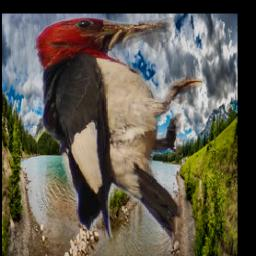Woodpecker: (35, 16, 204, 243)
